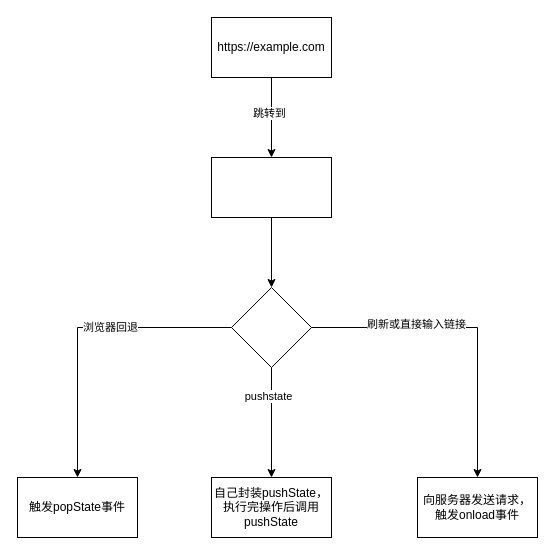
Some shapes in this 555 by 555 pixel diagram are drawn without their labels. Here are the shapes that lost their labels. From the top down, the centre of each, then its label:
(x=271, y=187): /blue
(x=271, y=327): 跳转类型
